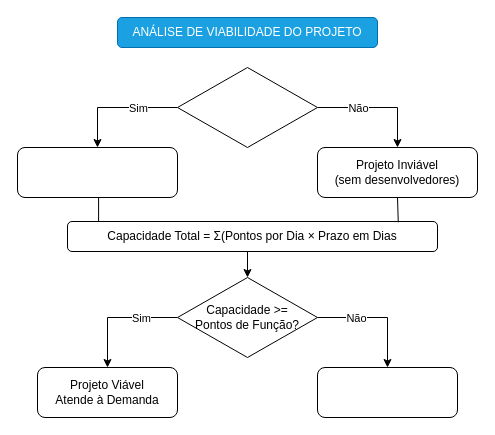
This 495x435 diagram has some shape labels left out. The shapes that lost their labels are listed below. From the top down, each one's centre as x and y in pixels, then its label:
the point at 247,107: Existem Desenvolvedores
the point at 97,172: Calcular Capacidade Total
the point at 387,392: Projeto Inviável Capacidade Insuficiente
